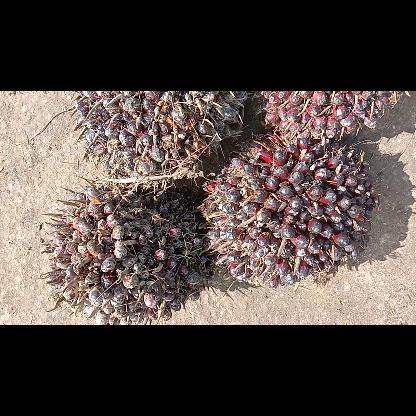Kurang masak: (202, 134, 380, 288), (41, 179, 210, 323), (67, 91, 250, 171), (253, 92, 413, 142)
